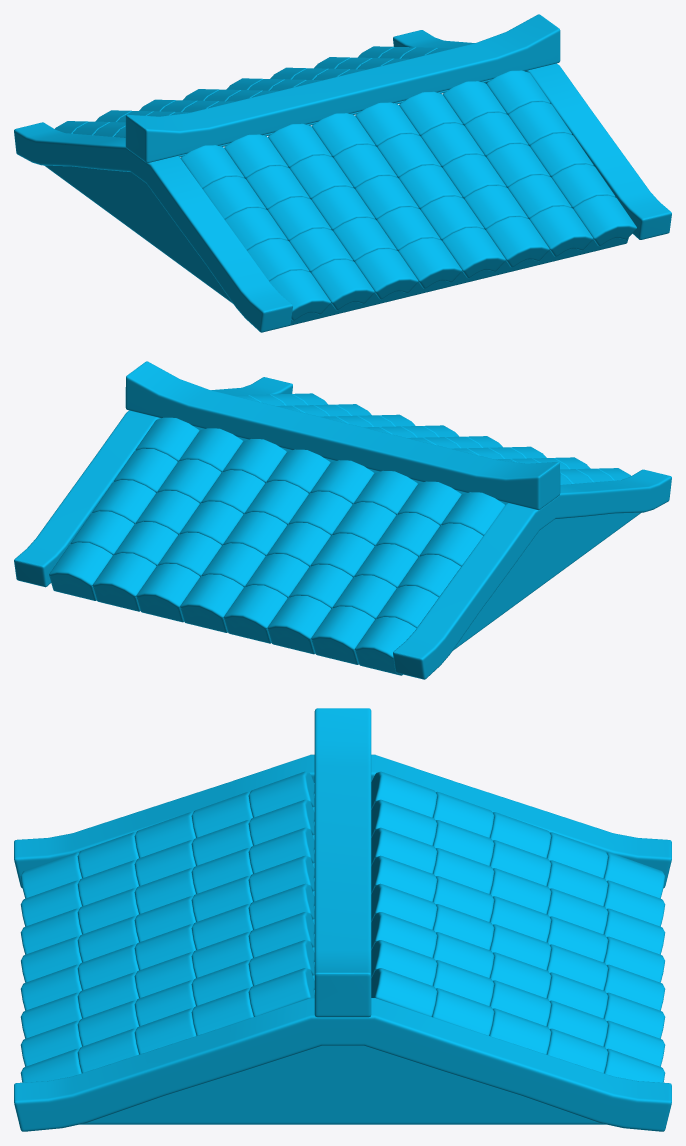
The model's file is SM_Stone_Roof_02.fbx.
The picture shows the model from 3 angles, top to bottom: view 1: azimuth 30°, elevation 25°; view 2: azimuth 150°, elevation 25°; view 3: azimuth 270°, elevation 25°; orthographic projection. The views are drawn at different scales.
Visible parts, largest first — view 1: SM_Stone_Roof_02; view 2: SM_Stone_Roof_02; view 3: SM_Stone_Roof_02.
Part boxes in pixels (x1=…): SM_Stone_Roof_02: x1=14, y1=14, x2=671, y2=332; SM_Stone_Roof_02: x1=14, y1=361, x2=671, y2=679; SM_Stone_Roof_02: x1=14, y1=708, x2=671, y2=1131.
Size of the model in its own units: 5.06 by 1.56 by 5.29.
